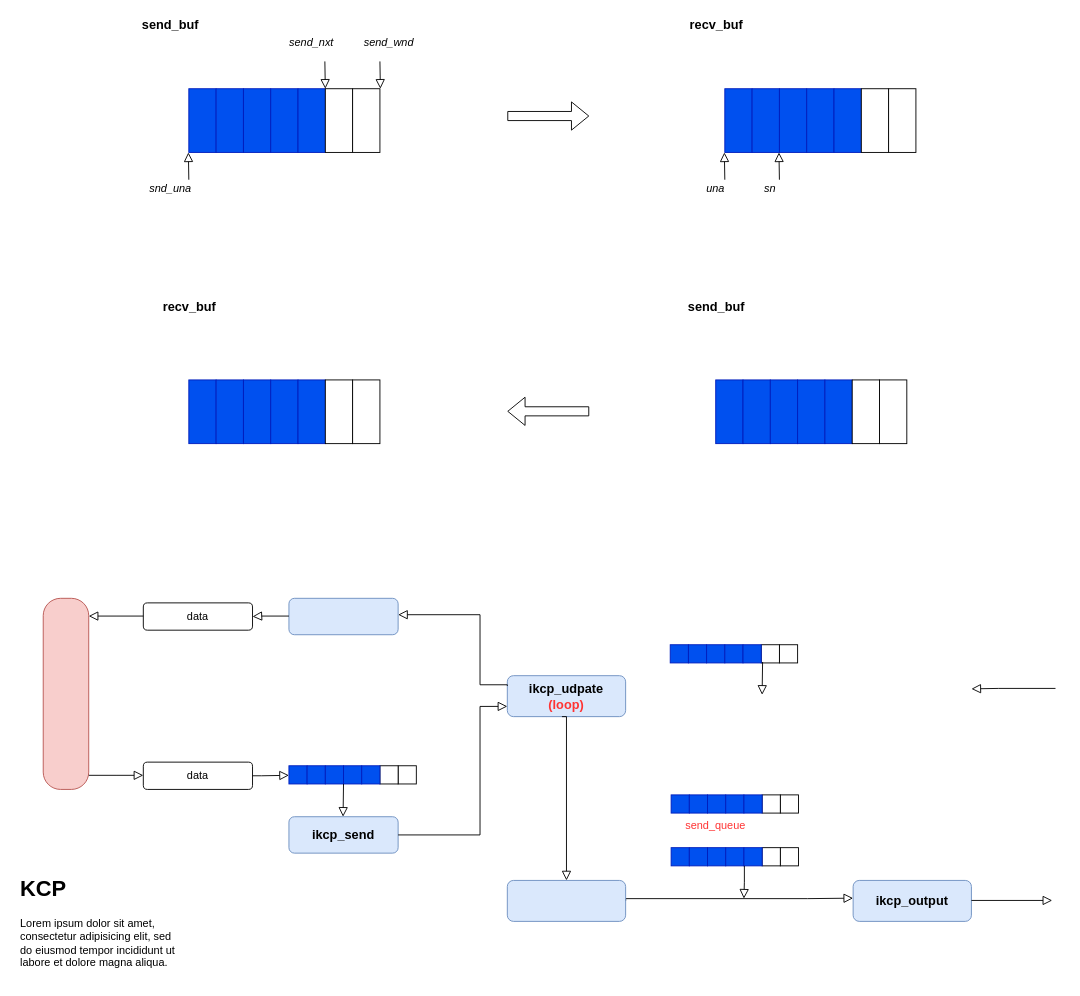
This 1080x996 diagram has some shape labels left out. The centre of each missing label's shape, as x and y in pixels:
"APP" belongs at (65,693).
"ikcp_flush" belongs at (566,900).
"ikcp_recv" belongs at (343,616).
